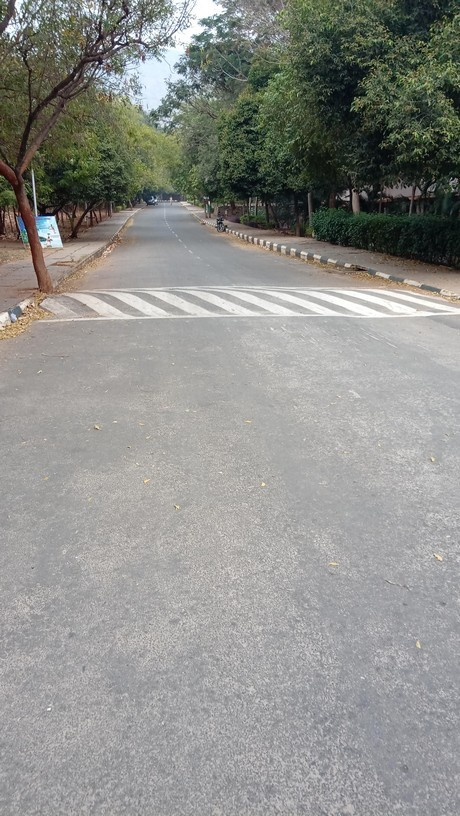bump: (27, 289, 460, 318)
